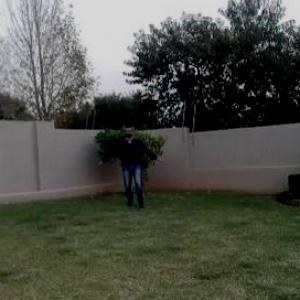land: (88, 116, 161, 214)
